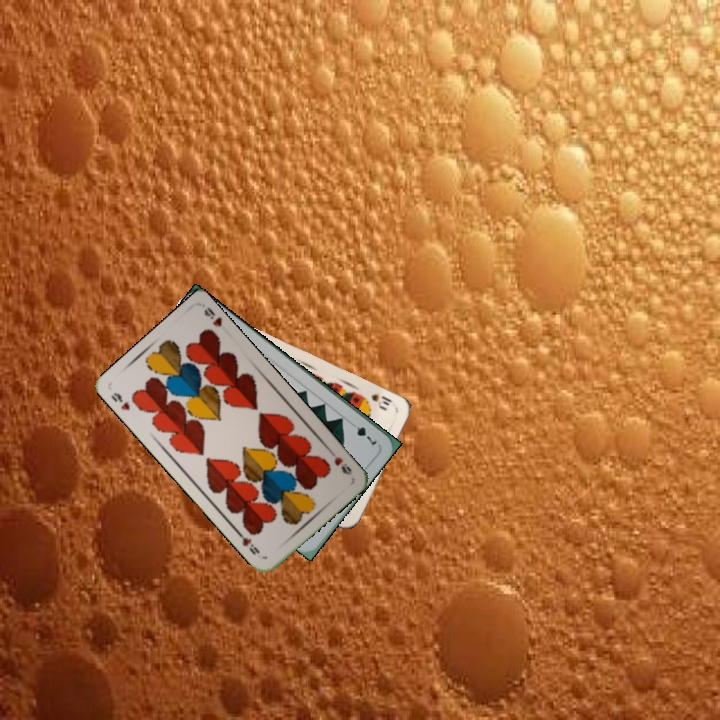G7: (346, 418, 379, 448)
H9: (324, 445, 354, 478), (107, 388, 132, 413)
S10: (367, 390, 395, 408)
